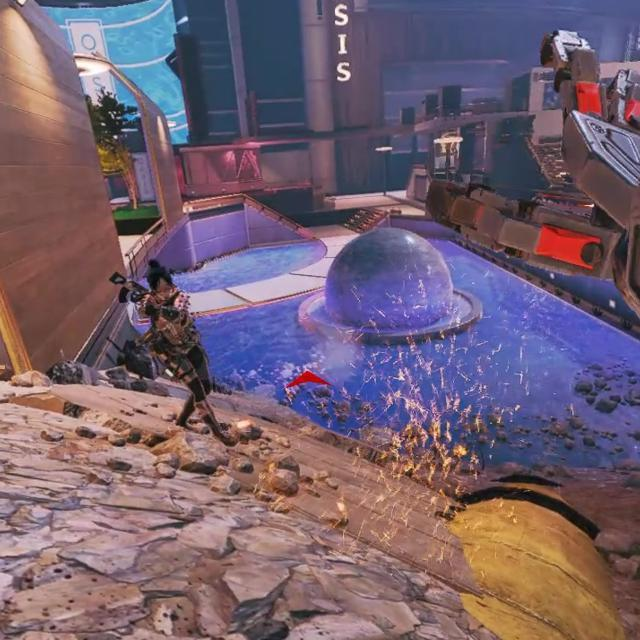avatar: (130, 255, 222, 438)
